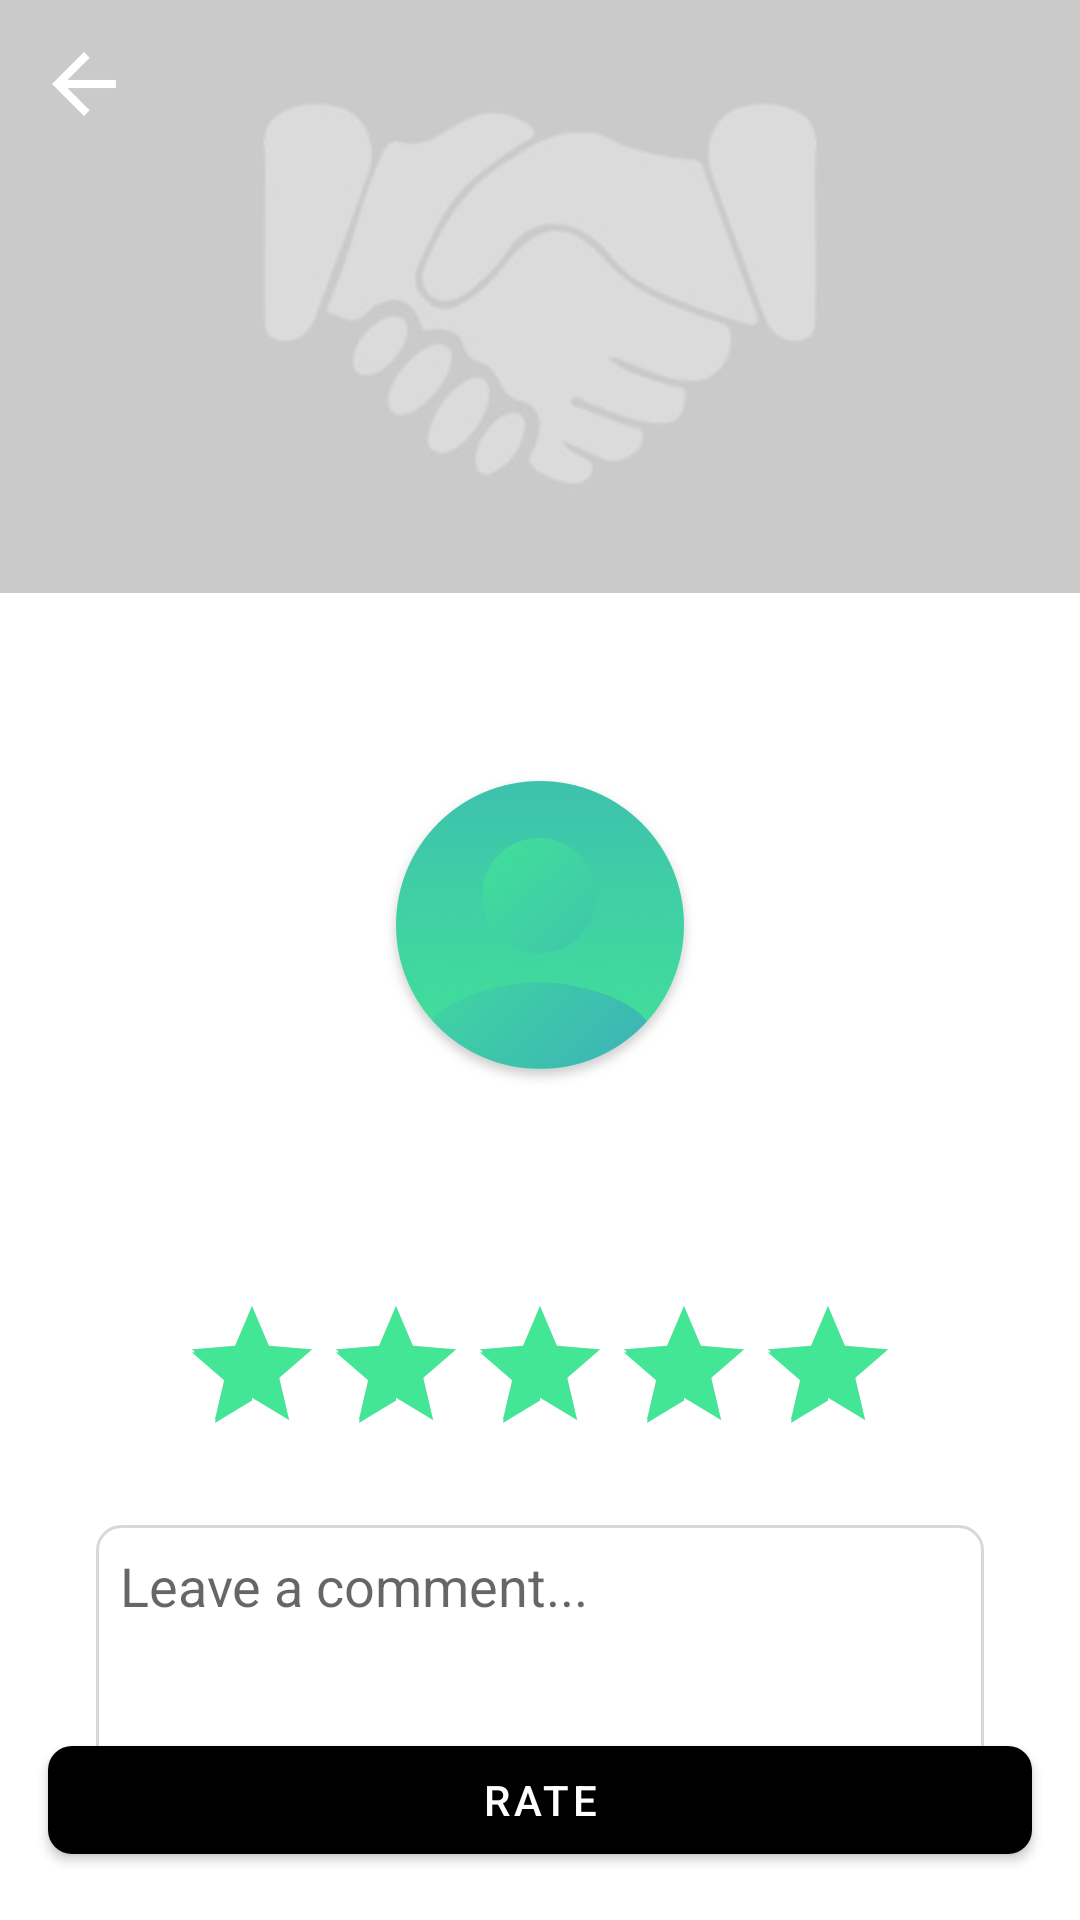

Point at icon controls on the screen. Image size 1080px x 1920px, points as point (x, y).
arrow back: point (84, 84)
